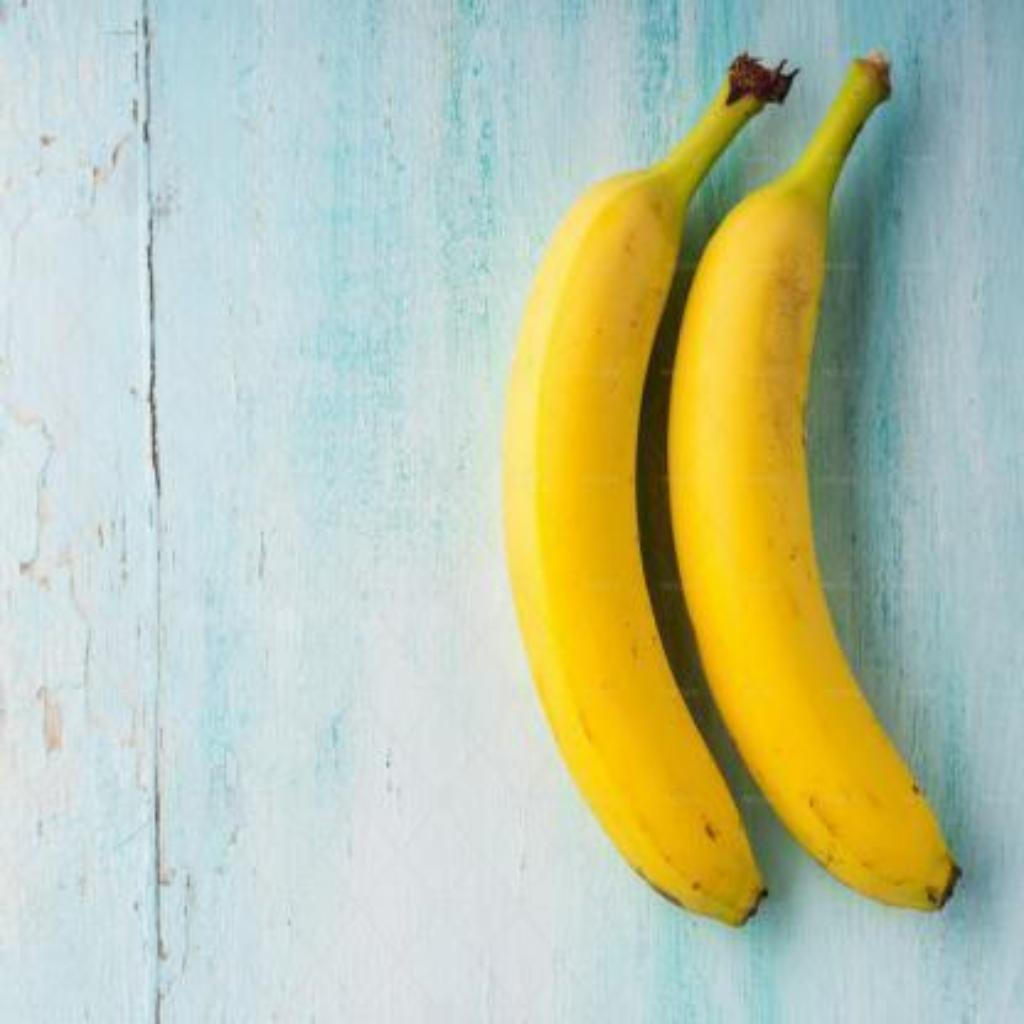banana: (670, 57, 960, 913), (500, 96, 768, 930)
